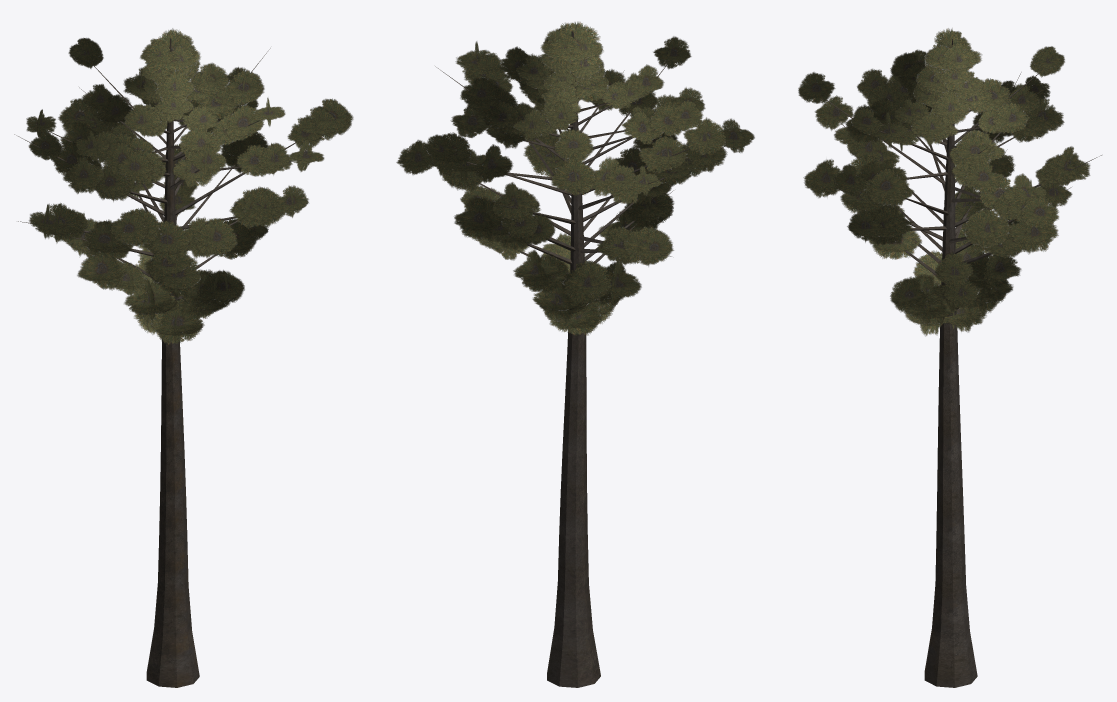
The model's file is pine_a.glb.
3 views of the same model, side by side, from view 1: azimuth 30°, elevation 25°; view 2: azimuth 150°, elevation 25°; view 3: azimuth 270°, elevation 25° (orthographic).
Visible parts, largest first — view 1: Foliage, Trunk, Branches; view 2: Foliage, Trunk, Branches; view 3: Foliage, Trunk, Branches.
Boxes of the visible parts, x1,y1,x2,y2 form: Foliage: (26, 28, 353, 345); Trunk: (146, 38, 199, 687); Branches: (14, 48, 295, 311); Foliage: (396, 21, 754, 335); Trunk: (547, 31, 600, 687); Branches: (435, 51, 745, 281); Foliage: (798, 28, 1090, 336); Trunk: (924, 39, 977, 687); Branches: (827, 72, 1101, 309).
Bounding box in the file's own units: 7.73 × 16.27 × 7.17.
3 materials, 3 textured.
